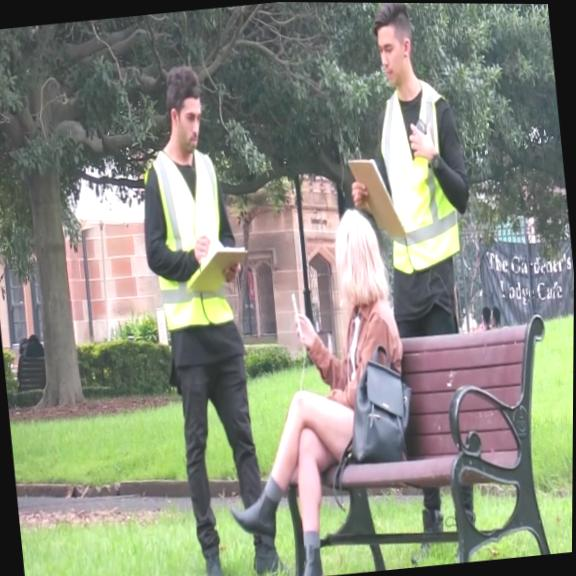safety_vest: (140, 142, 236, 332), (375, 82, 466, 272)
